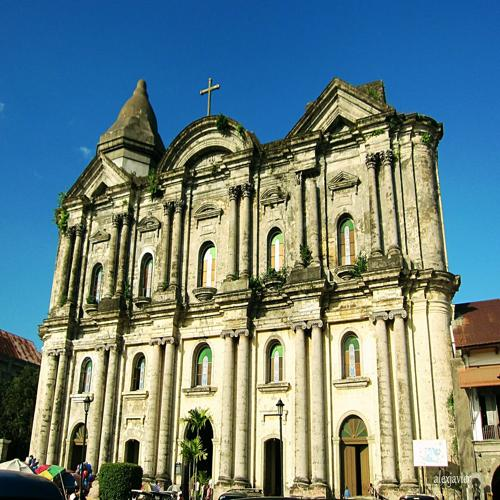Taal Basilica Church: (27, 69, 466, 493)
